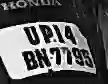1: (53, 23, 64, 44)
4: (64, 23, 76, 45)
5: (82, 47, 92, 67)
7: (48, 45, 62, 66), (61, 46, 72, 65)
9: (71, 46, 85, 66)
B: (21, 49, 38, 71)
N: (35, 46, 51, 68)
P: (39, 23, 53, 45)
U: (23, 25, 39, 46)
